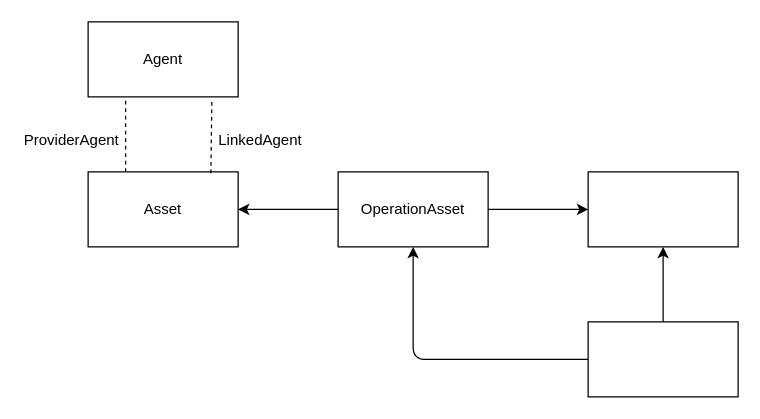
This 760x419 diagram has some shape labels left out. Here are the shapes that lost their labels. From the top down, the centre of each, then its label:
At (x=662, y=209): "Operation".
At (x=662, y=359): "Order".
